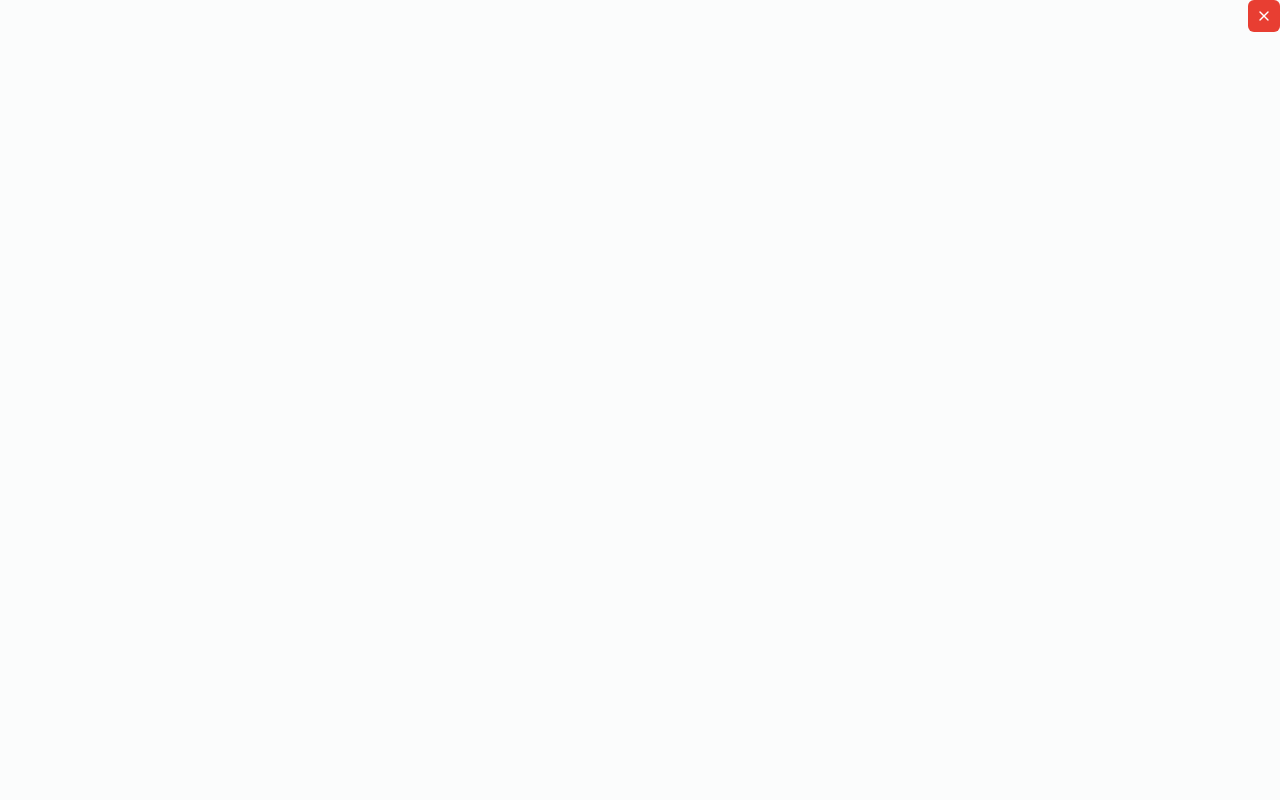
Scenario: remover professor confirma, cancela e mostra erro
Later steps or results of the test are not shown.
Click the button named "Remover": x=1264, y=16 x1=1248 y1=0 x2=1279 y2=32
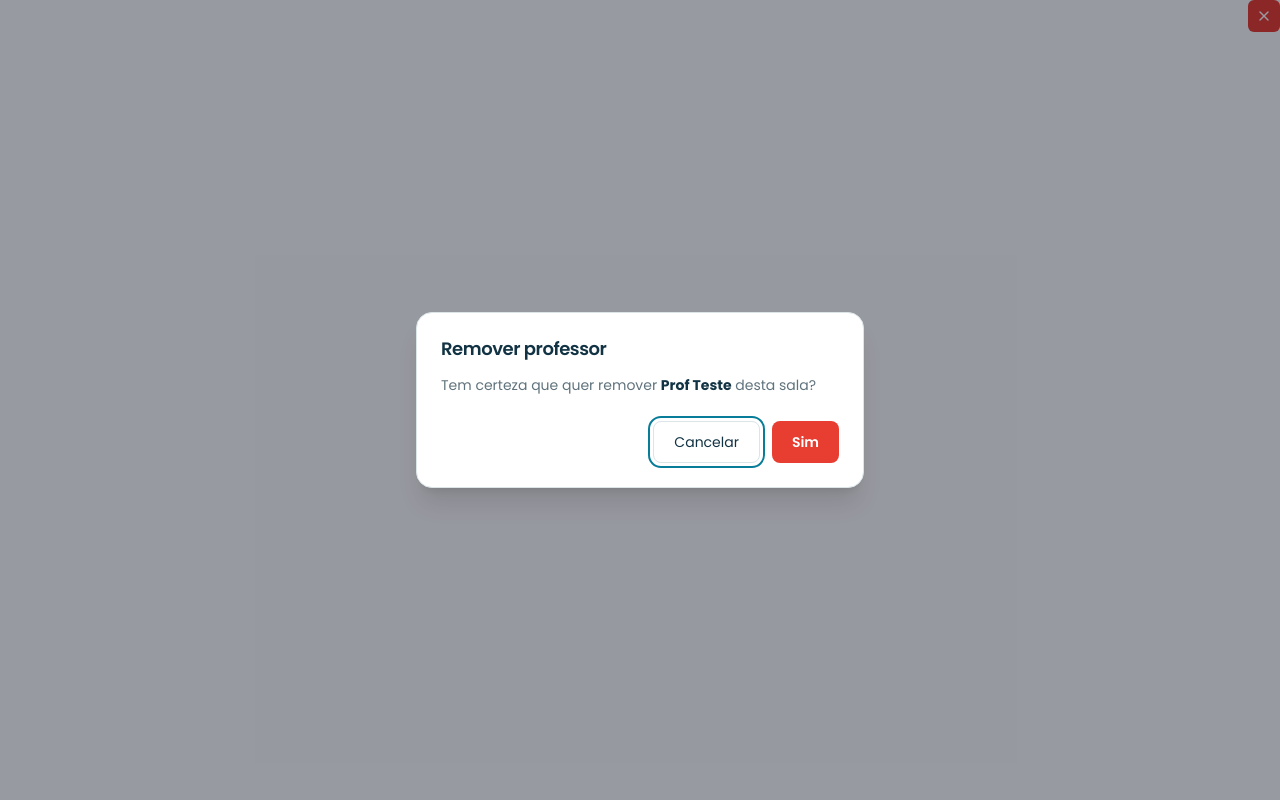
Now the dialog is shown, box x1=416 y1=312 x2=864 y2=488
